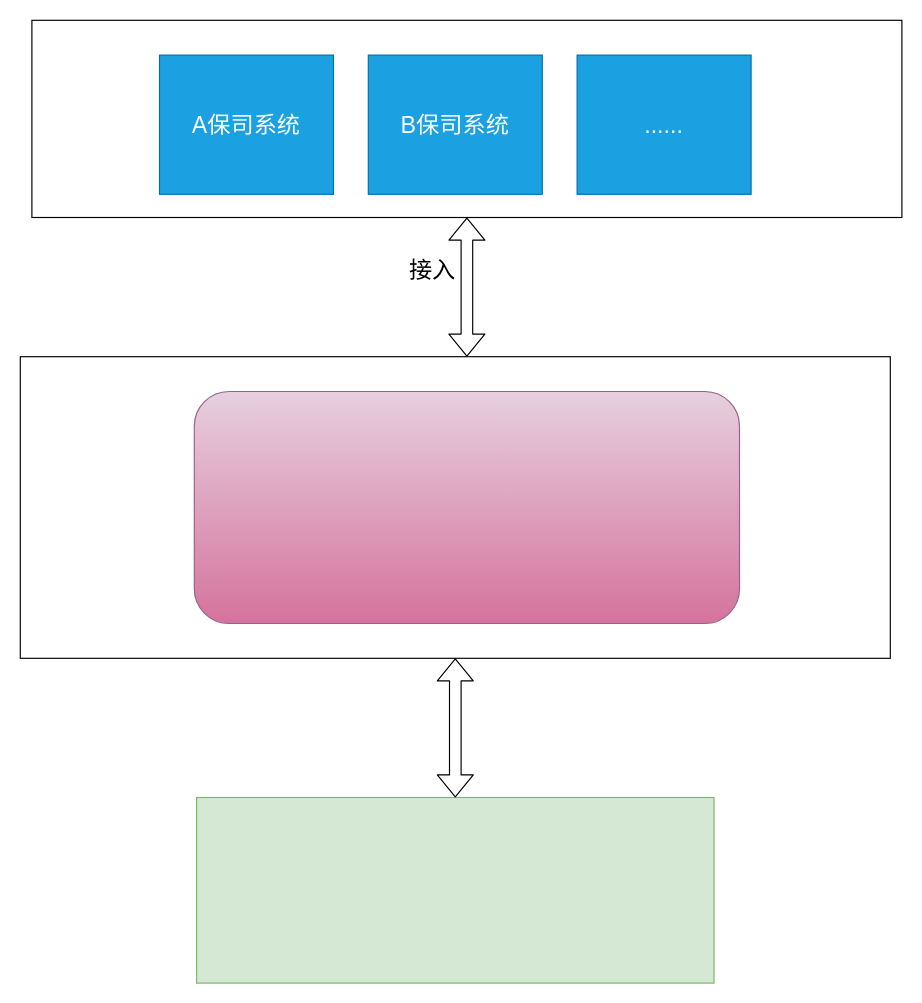
Some shapes in this 922 by 1003 pixel diagram are drawn without their labels. Each missing label, with the centre of its shape:
医保核心系统: the point at 454,889
多层次医疗保障服务平台: the point at 466,507
